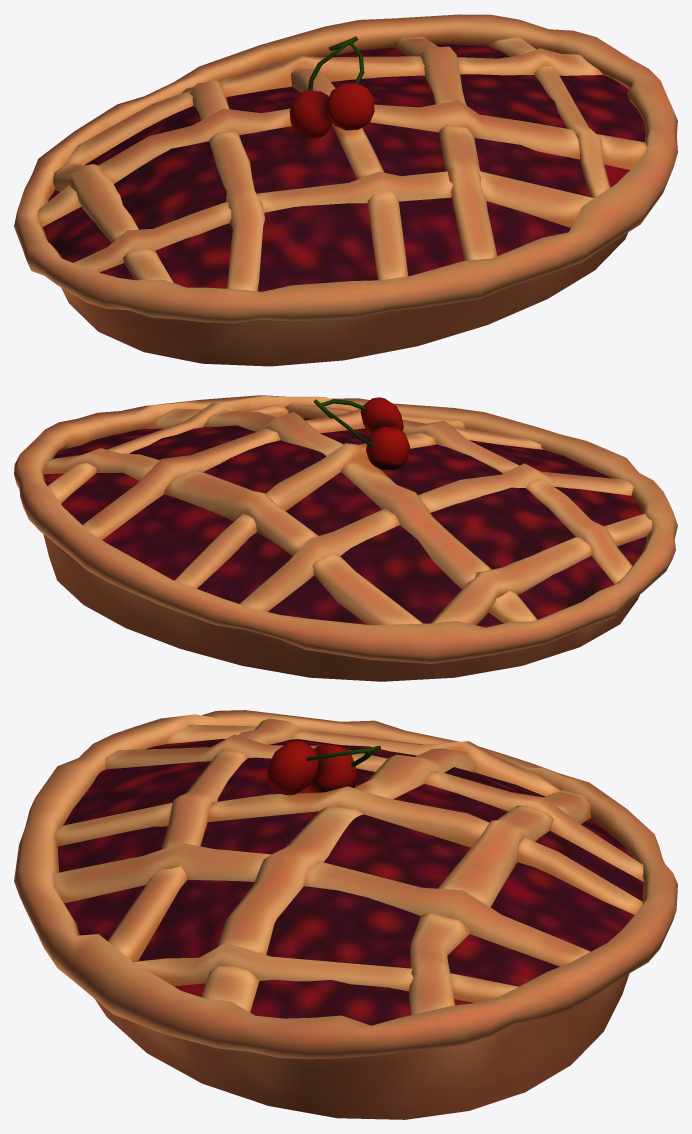
Rendered from PIE.fbx.
3 views of the same model, one above another, from view 1: azimuth 30°, elevation 25°; view 2: azimuth 150°, elevation 25°; view 3: azimuth 270°, elevation 25° (orthographic). The views are drawn at different scales.
Parts seen in each view (by area): view 1: PIE_; view 2: PIE_; view 3: PIE_.
Boxes of the visible parts, bbox=[...] form: PIE_: bbox=[14, 14, 677, 366]; PIE_: bbox=[14, 395, 677, 681]; PIE_: bbox=[14, 710, 677, 1119].
Bounding box in the file's own units: 32.27 × 9.73 × 25.89.
